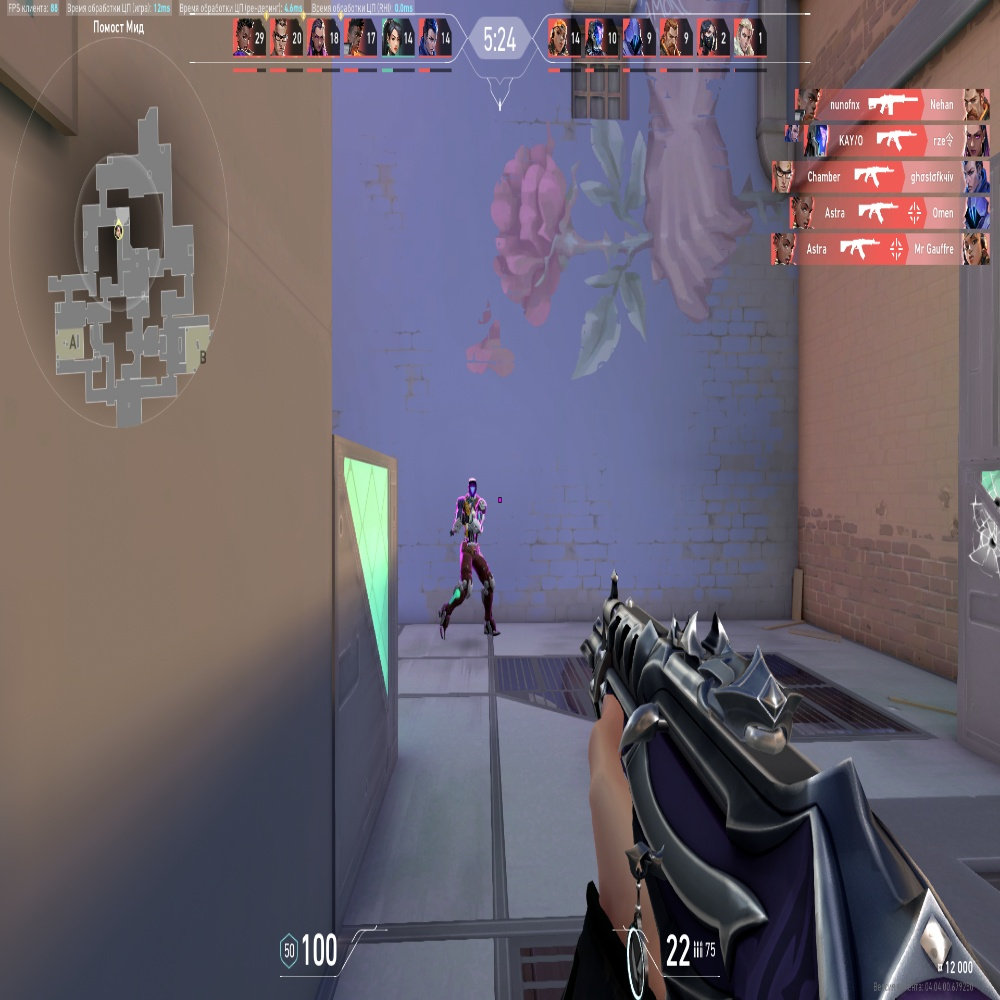body: (458, 498, 481, 551)
head: (468, 478, 479, 500)
